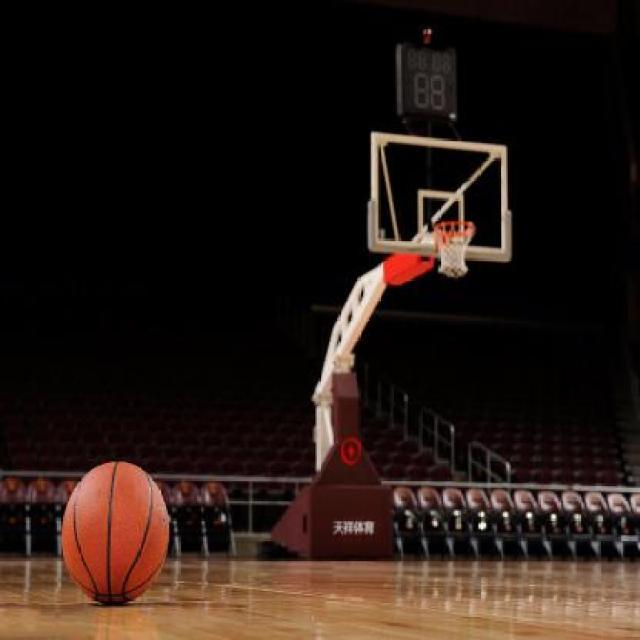basketball: (62, 461, 170, 605)
rim: (434, 220, 476, 278)
